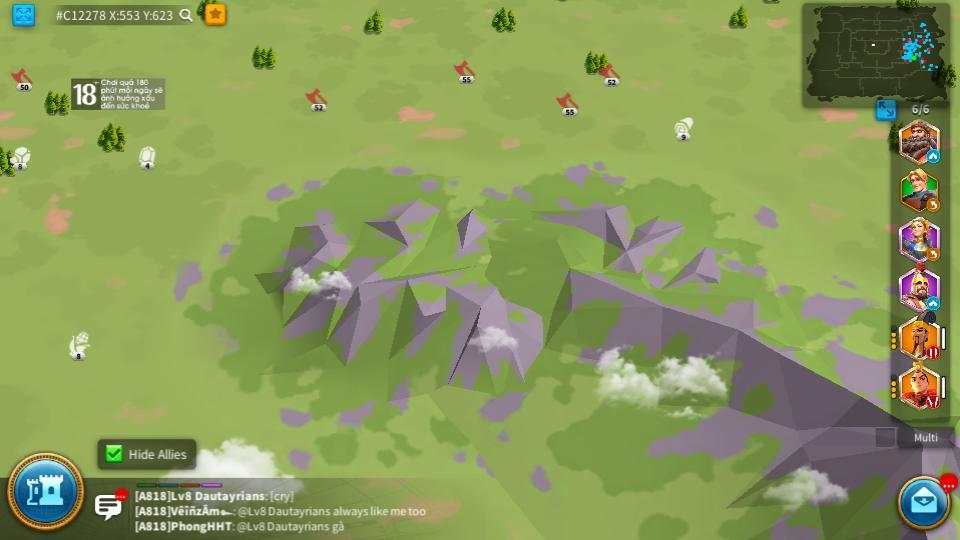gem-z-out: (137, 145, 158, 167)
march_attacking: (924, 395, 938, 407), (925, 350, 937, 359)
march_idle: (926, 149, 940, 162), (925, 297, 938, 307)
march_returning: (926, 248, 941, 260), (927, 201, 940, 212)
